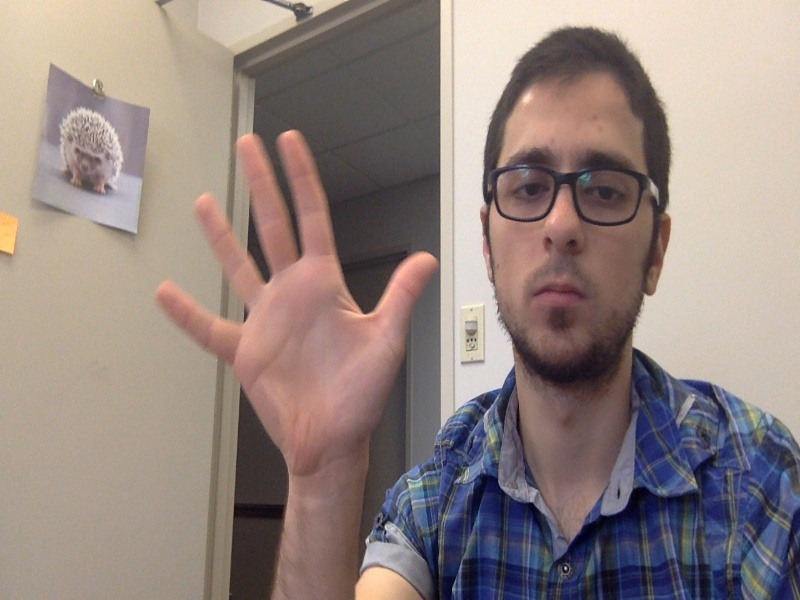5-hand: (150, 132, 437, 469)
